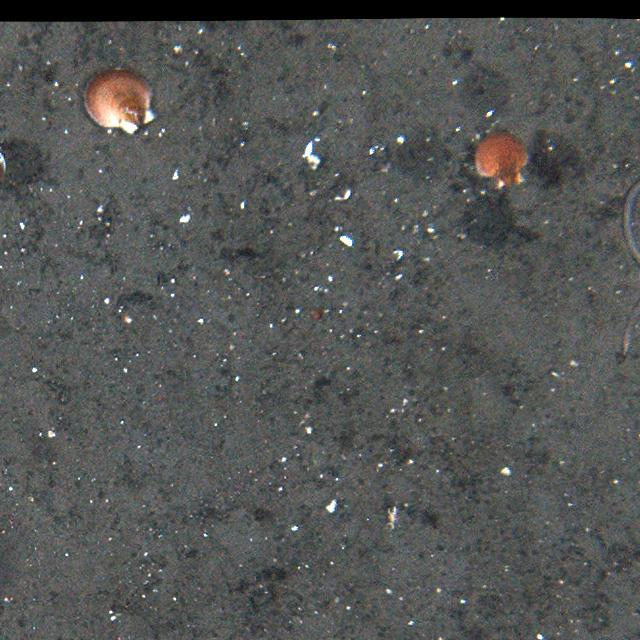scallop: (80, 66, 160, 136), (468, 128, 531, 189)
